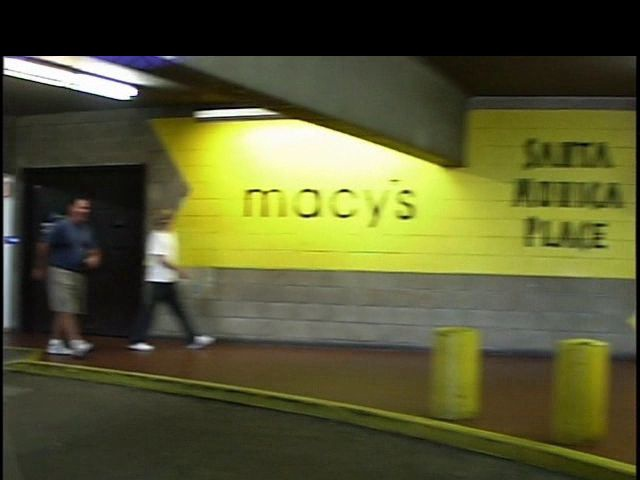person: (118, 198, 204, 366), (30, 187, 98, 363)
